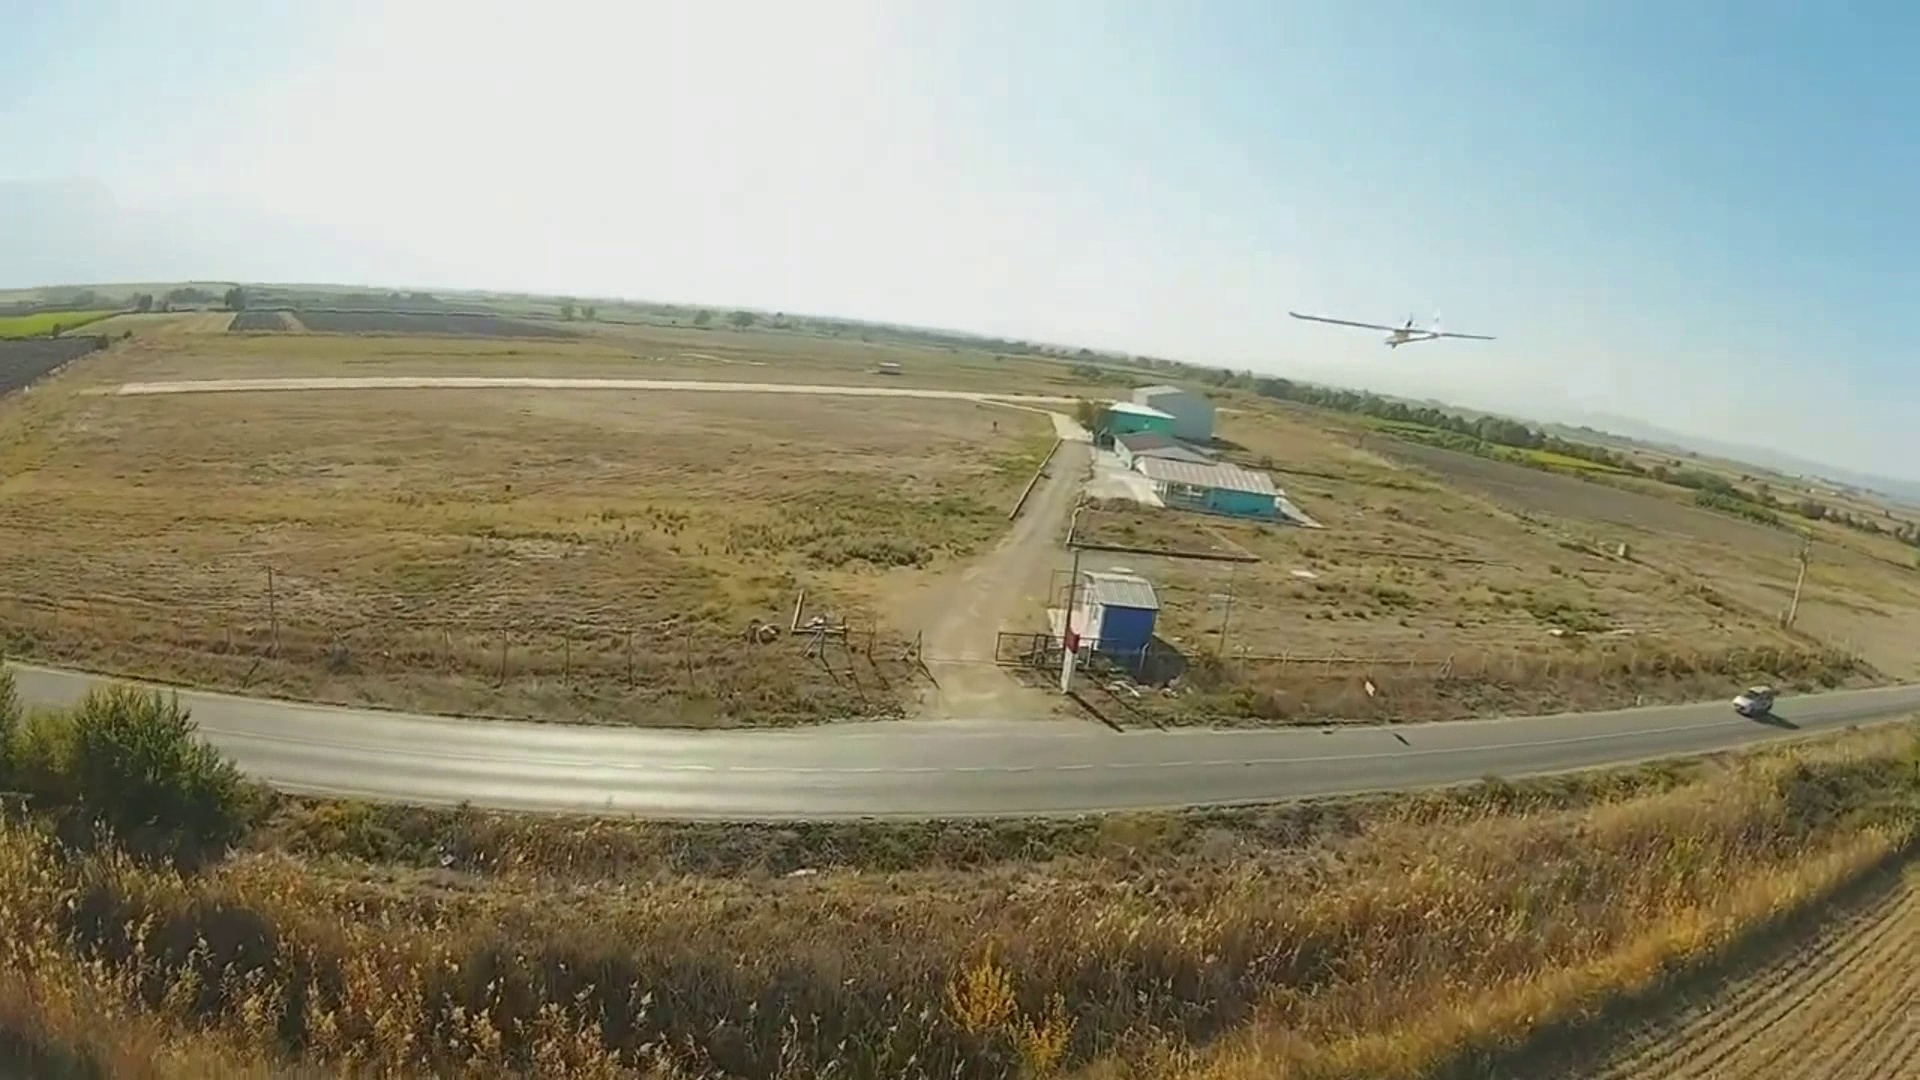airplane: (1284, 305, 1501, 348)
